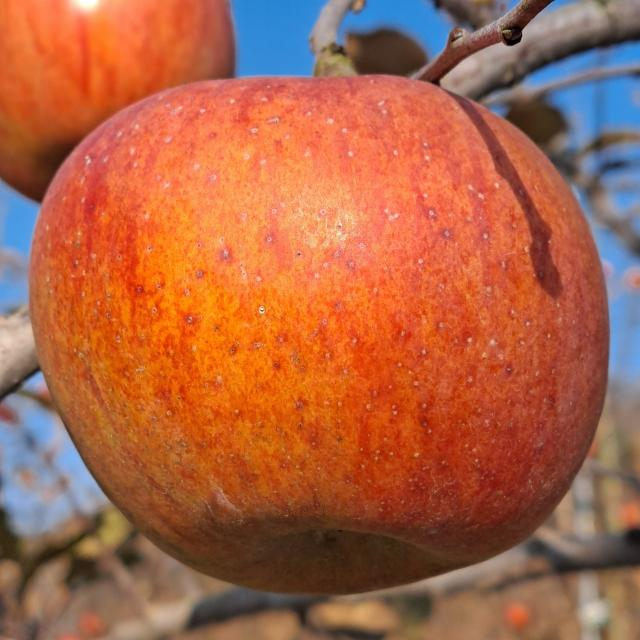fresh: (22, 59, 620, 606)
